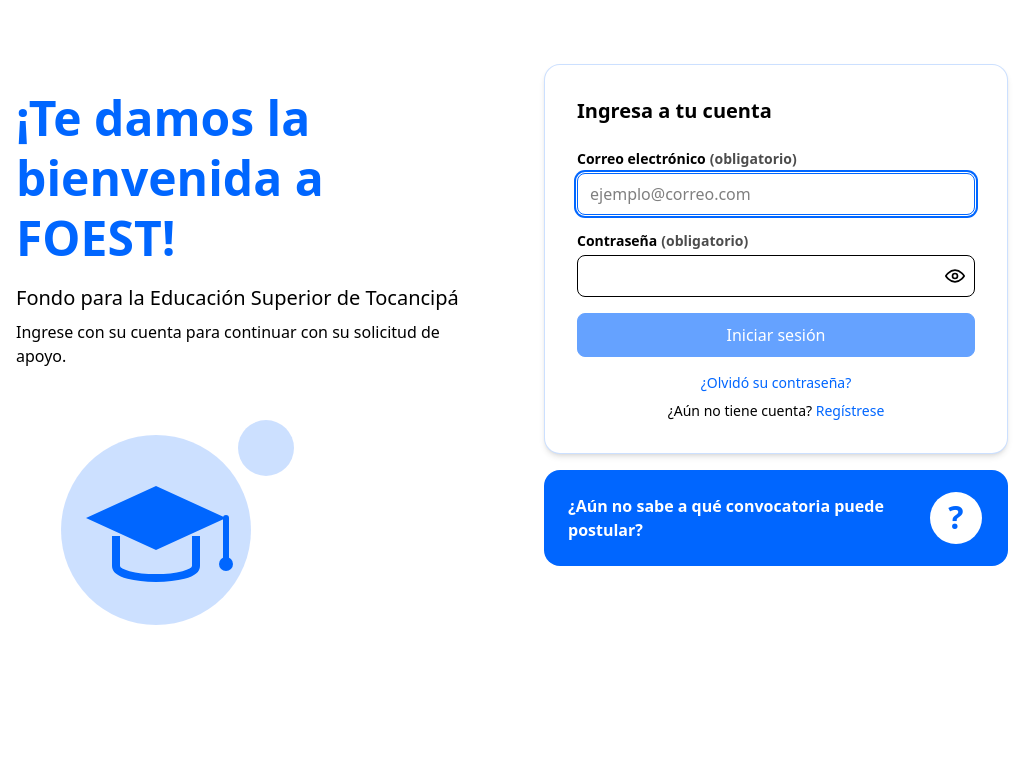
Test: LoginPage › informa cuenta inactiva (403 CUENTA_INACTIVA) y bloqueo temporal (429)
Type "ben@foest.test" into the field labelled "Correo electrónico(obligatorio)" at (776, 194), box [577,173,975,215]
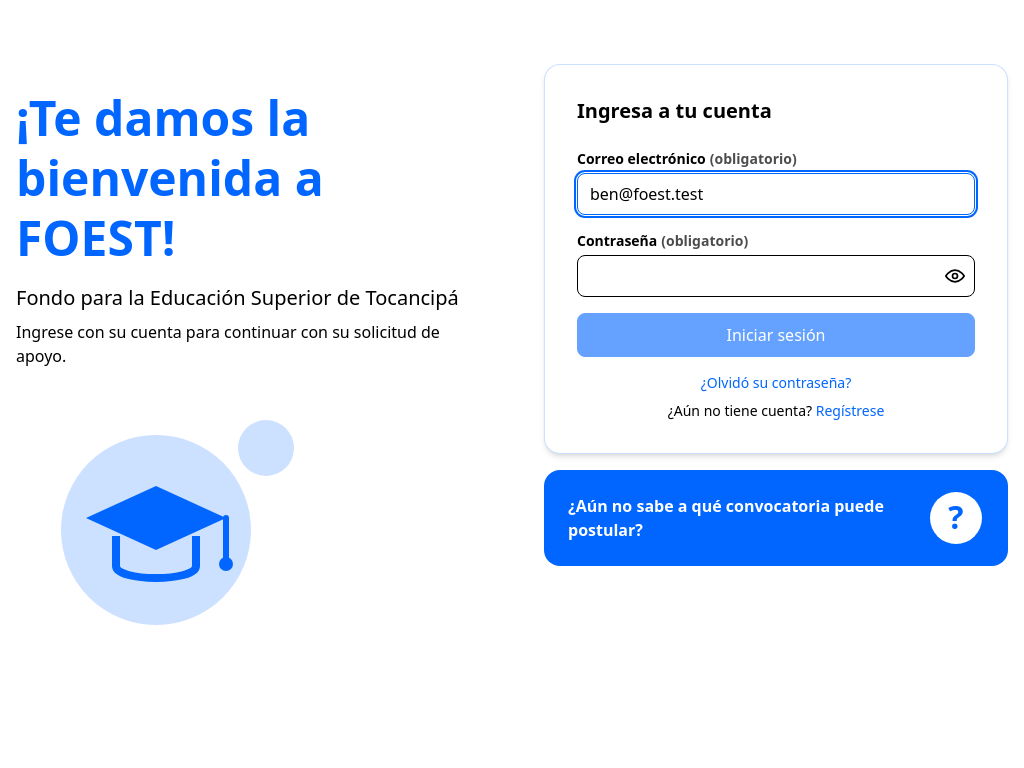
Type "Clave.Segura1" into the password field labelled "Contraseña(obligatorio)" at (776, 276), box [577,255,975,297]
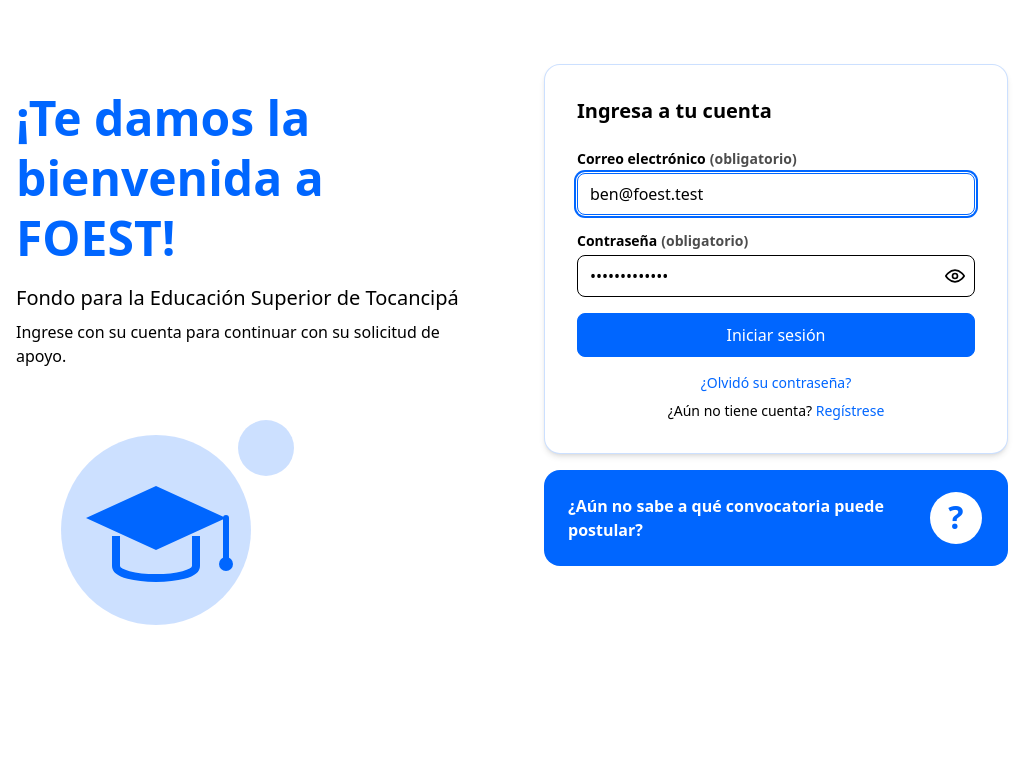
Click the button "Iniciar sesión" at (776, 335), box [577,313,975,357]
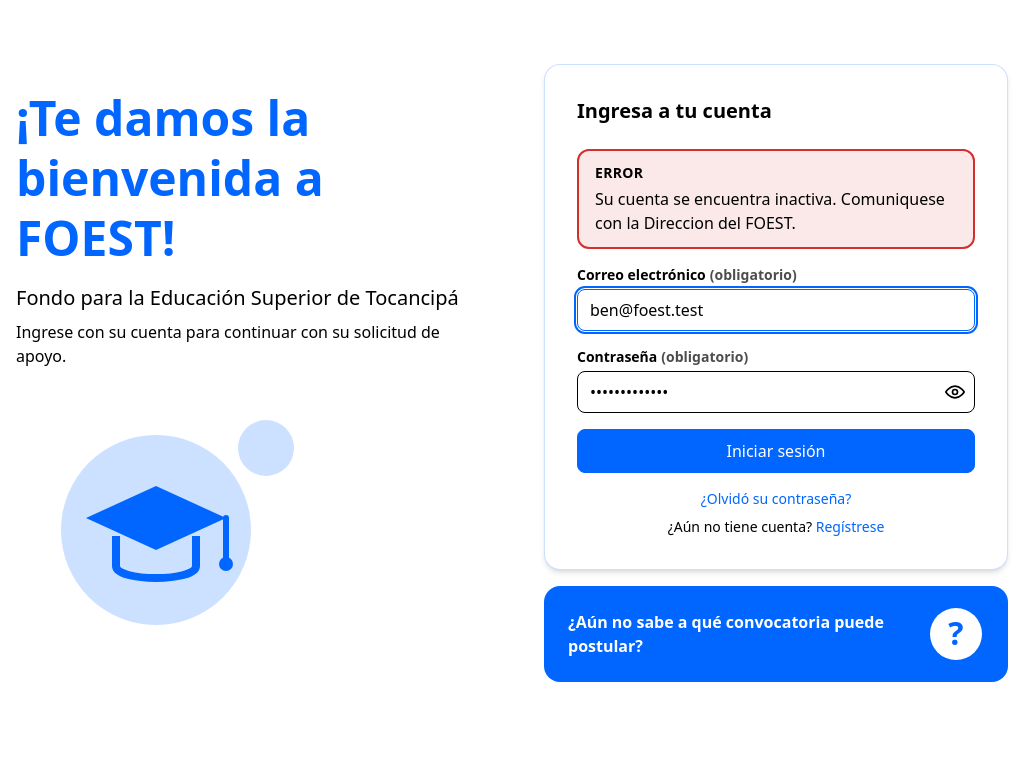
Expected: the text "Su cuenta se encuentra inactiva" is shown, [595,188,945,234]
Click the button "Iniciar sesión" at (776, 451), box [577,429,975,473]
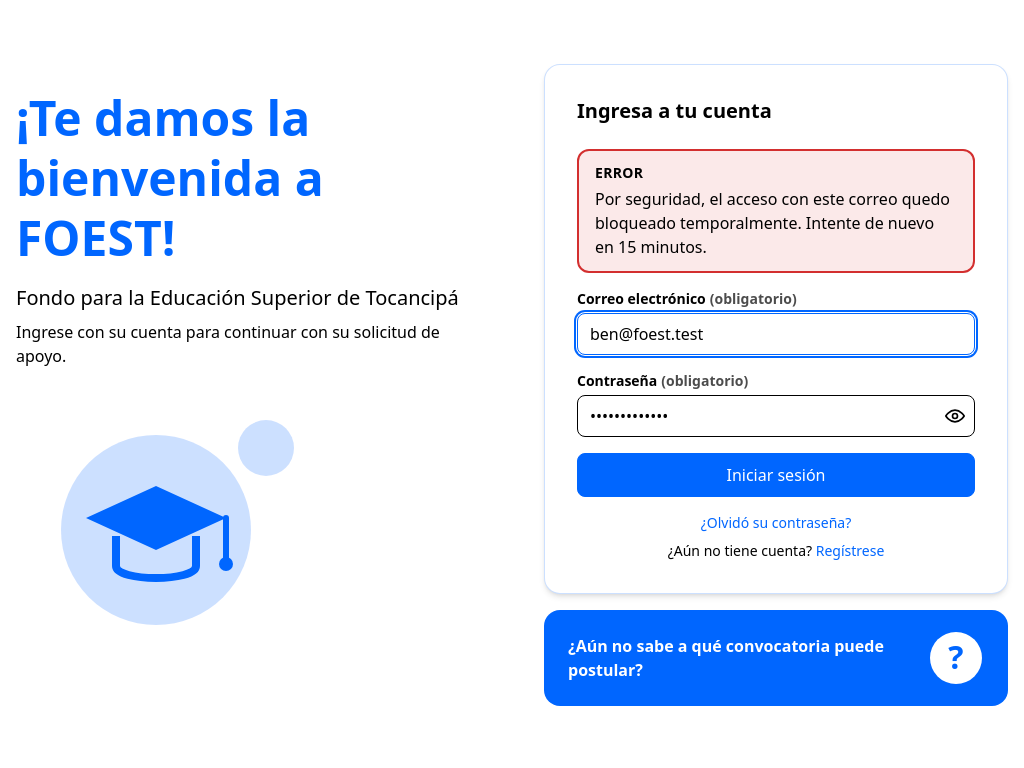
Expected: the text "quedo bloqueado temporalmente" is shown, [595,188,950,258]
